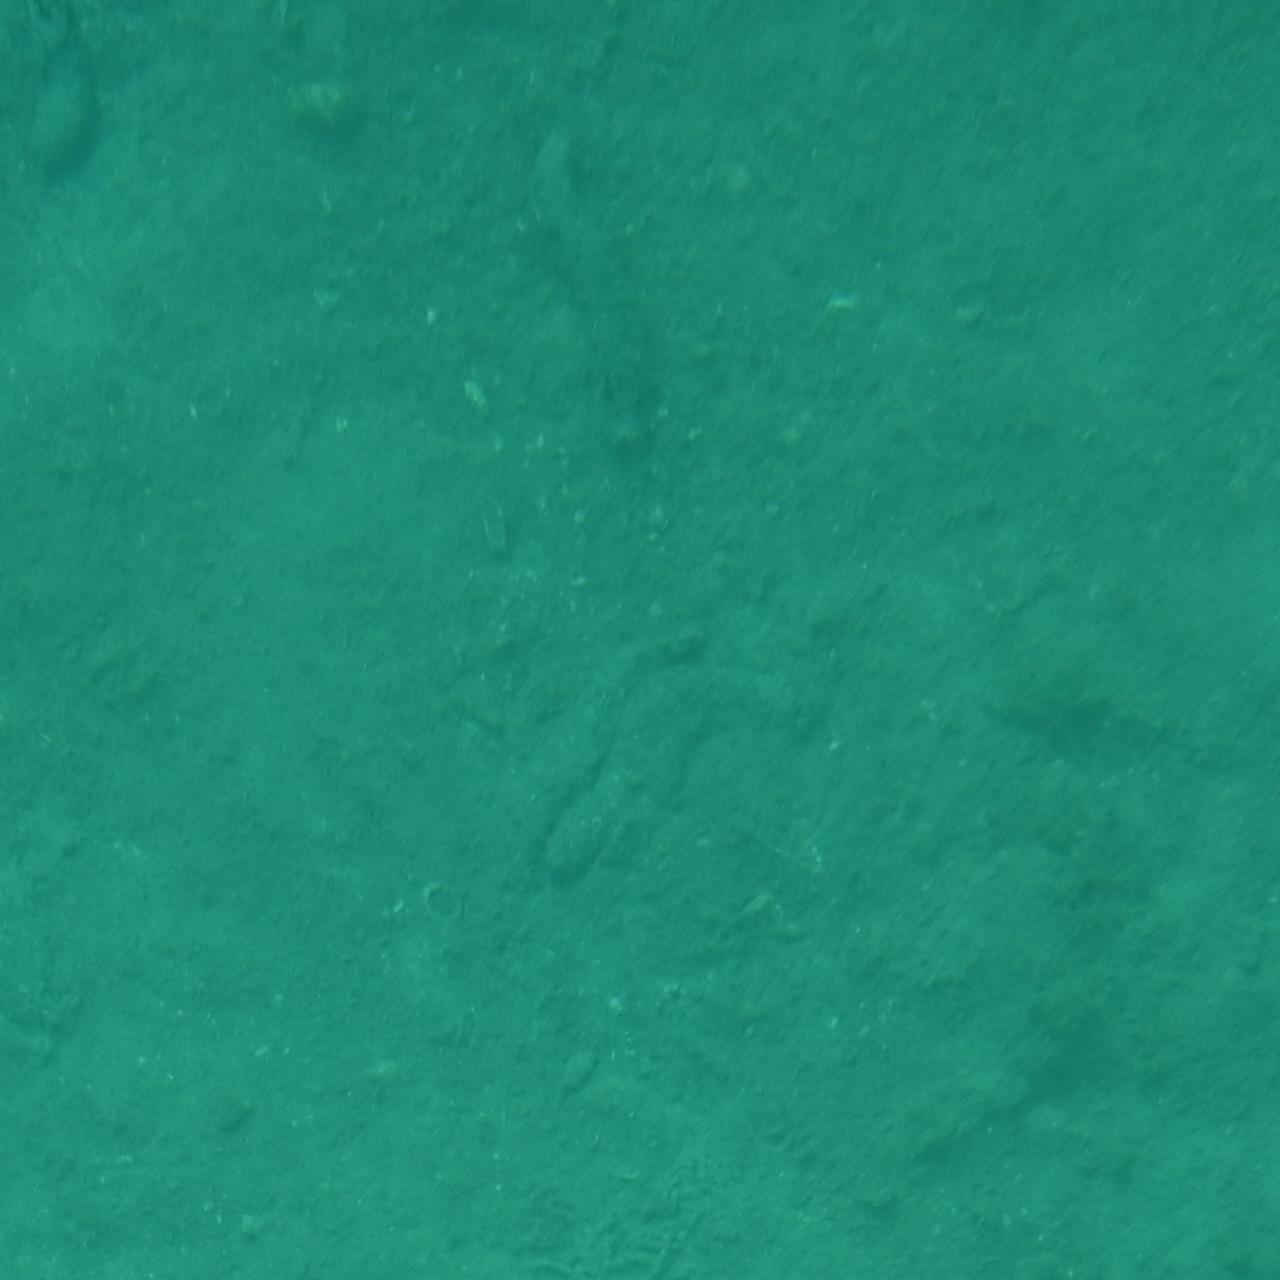Holothuria tubulosa: (530, 101, 670, 483), (551, 663, 810, 839), (542, 682, 735, 903)
